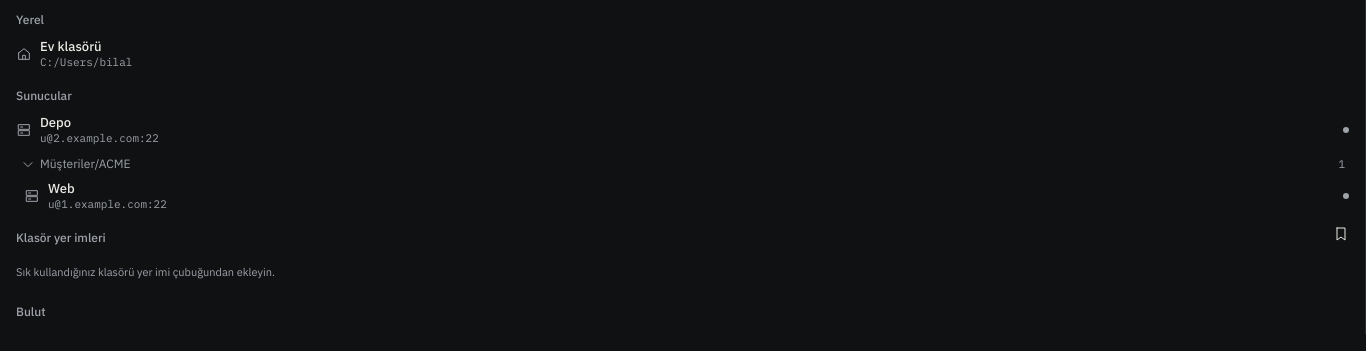
Test: connection groups › shows group headings that collapse
The width and height of the screenshot is (1366, 351).
Expected: the button "Web u@1.example.com:22" is shown, [16, 176, 1357, 216]
Click the button "Müşteriler/ACME 1".
click(85, 164)  # box [8, 152, 1357, 176]
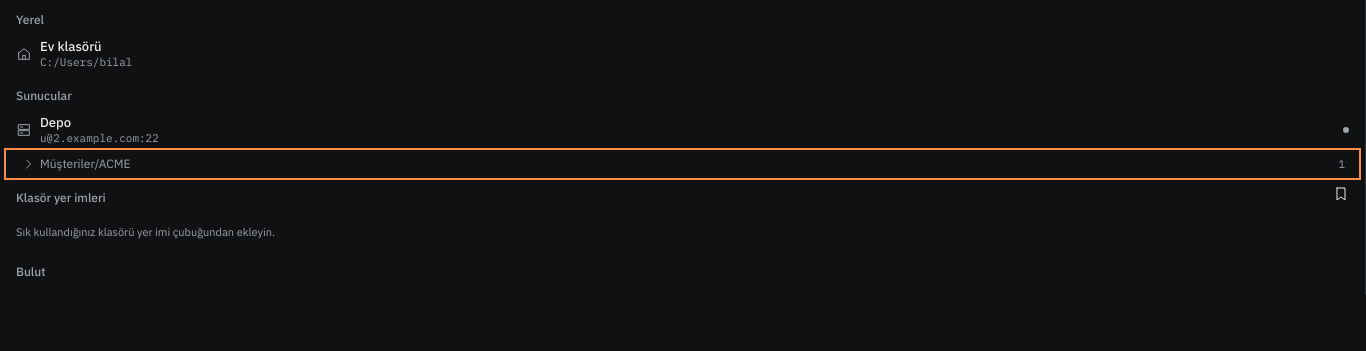
Expected: the button "Depo u@2.example.com:22" is shown, [8, 110, 1357, 150]
Expected: the button "Müşteriler/ACME 1" is collapsed, [8, 152, 1357, 176]
Expected: the button "Web" is gone
